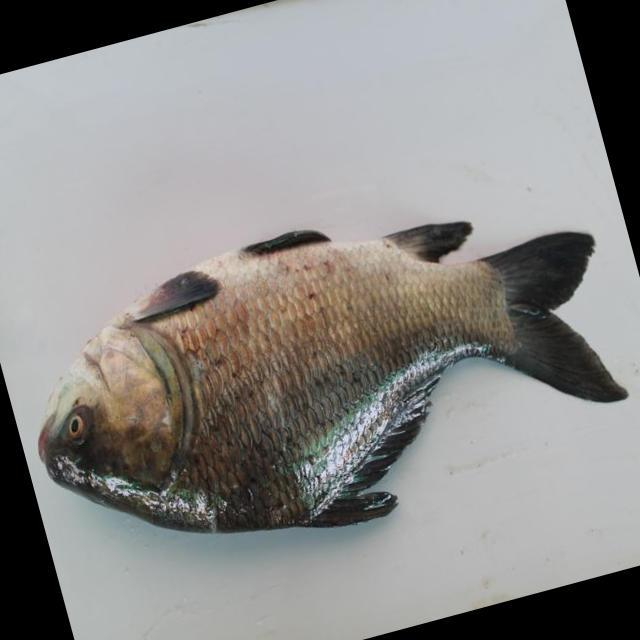Catla: (44, 220, 633, 537)
